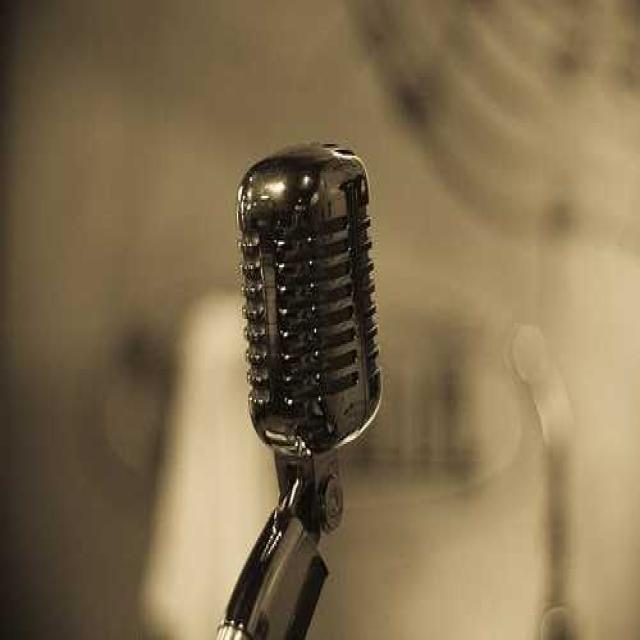microphone: (235, 143, 380, 463)
